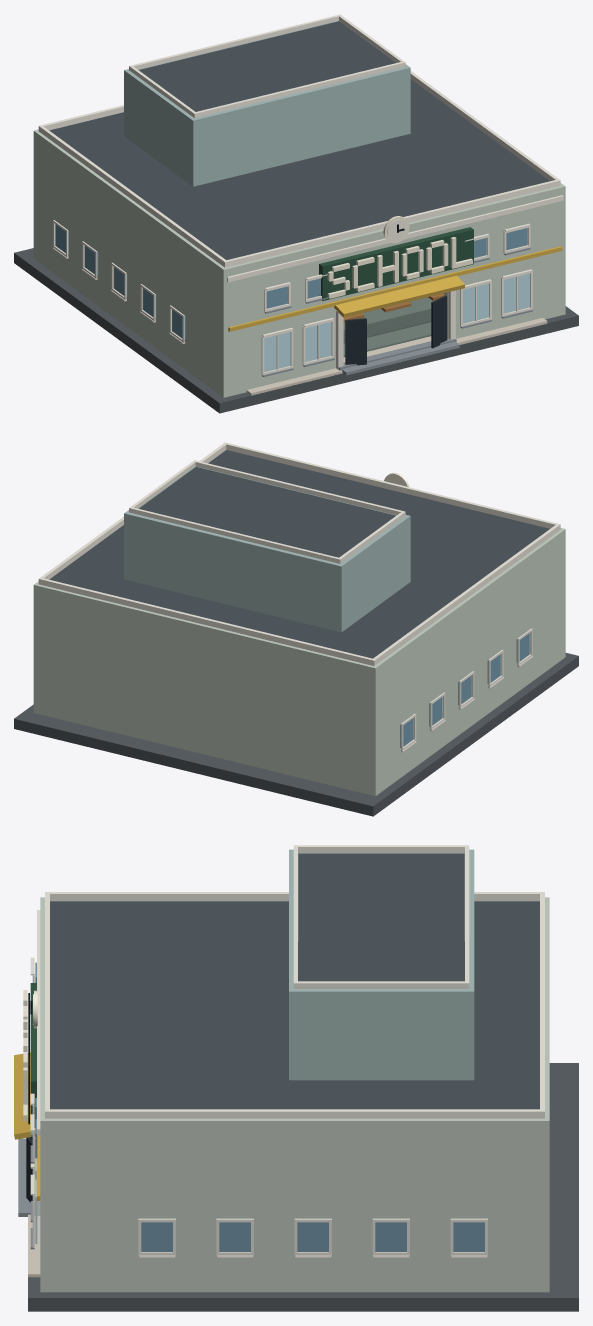
Rendered from school-building.glb.
The picture shows the model from 3 angles, top to bottom: view 1: azimuth 30°, elevation 25°; view 2: azimuth 150°, elevation 25°; view 3: azimuth 270°, elevation 25°; orthographic projection. The views are drawn at different scales.
Visible parts, largest first — view 1: school_cutaway_roof, school_exterior_detail, school_hull_wall_left, school_hull_wall_front, school_cutaway_upper, school_foundation, school_interior, school_hull_wall_back; view 2: school_cutaway_roof, school_hull_wall_back, school_hull_wall_left, school_cutaway_upper, school_foundation, school_exterior_detail, school_hull_wall_front; view 3: school_cutaway_roof, school_hull_wall_right, school_foundation, school_cutaway_upper, school_exterior_detail, school_hull_wall_back, school_hull_wall_front.
Part boxes in pixels (box(x1,y1,x2,y2)): school_cutaway_roof: box(38, 14, 560, 267); school_exterior_detail: box(52, 195, 563, 376); school_hull_wall_left: box(37, 132, 223, 394); school_hull_wall_front: box(220, 184, 565, 397); school_cutaway_upper: box(124, 20, 410, 186); school_foundation: box(14, 248, 578, 413); school_interior: box(343, 293, 444, 357); school_hull_wall_back: box(33, 129, 39, 260); school_cutaway_roof: box(38, 442, 560, 665); school_hull_wall_back: box(33, 582, 378, 796); school_hull_wall_left: box(376, 531, 562, 793); school_cutaway_upper: box(124, 466, 410, 632); school_foundation: box(14, 653, 578, 816); school_exterior_detail: box(384, 473, 532, 752); school_hull_wall_front: box(559, 528, 565, 658); school_cutaway_roof: box(45, 845, 544, 1118); school_hull_wall_right: box(49, 1118, 540, 1292); school_foundation: box(18, 1063, 578, 1311); school_cutaway_upper: box(289, 849, 474, 1080); school_exterior_detail: box(14, 910, 487, 1257); school_hull_wall_back: box(541, 897, 549, 1292); school_hull_wall_front: box(40, 897, 48, 1292).
Size of the model in its own units: 22.8 by 12.67 by 23.18.
